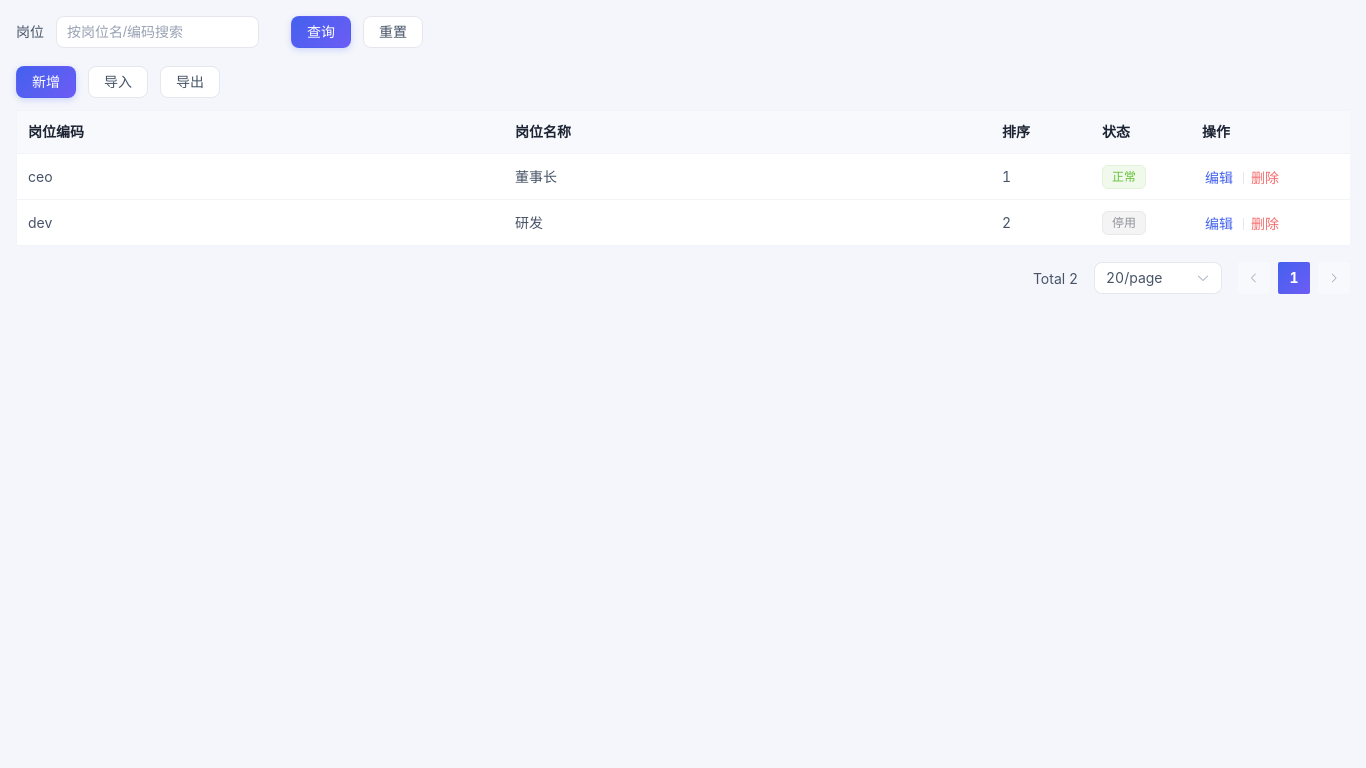
Test: 岗位管理页 › 点导入 → 打开导入对话框
Click the button "导入": (118, 82) 88,66 -> 148,98
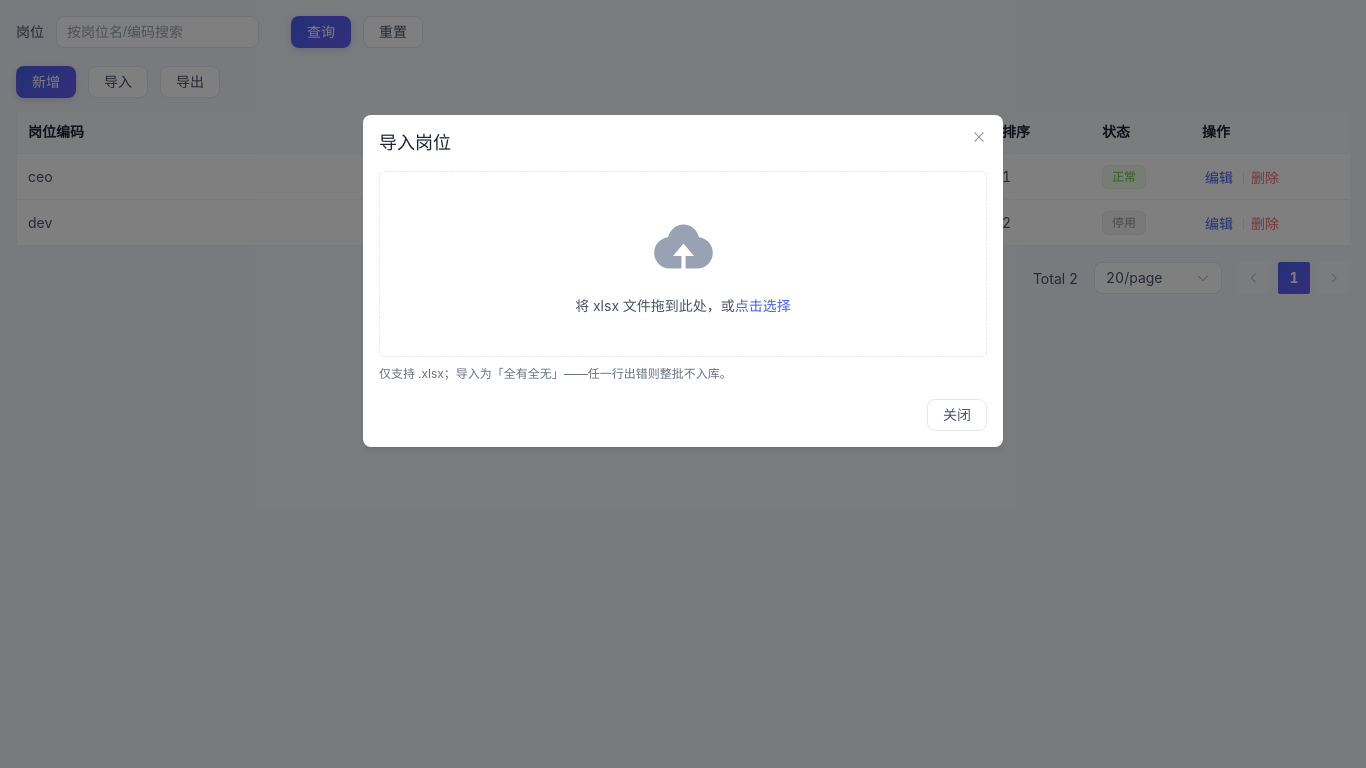
Result: the text "导入岗位" is shown at 379,132 -> 451,153
